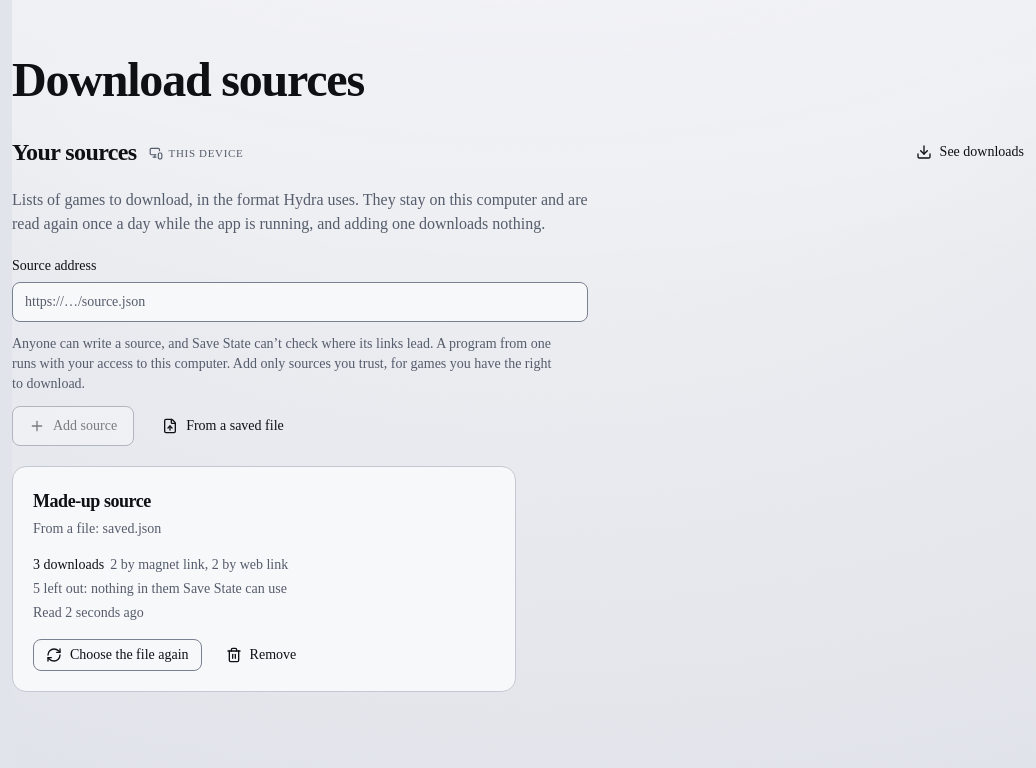
Test: download sources › reads one from a file again by choosing the file, not by an address
Click the button "Choose the file again" at (117, 655), box 33,639 -> 202,671
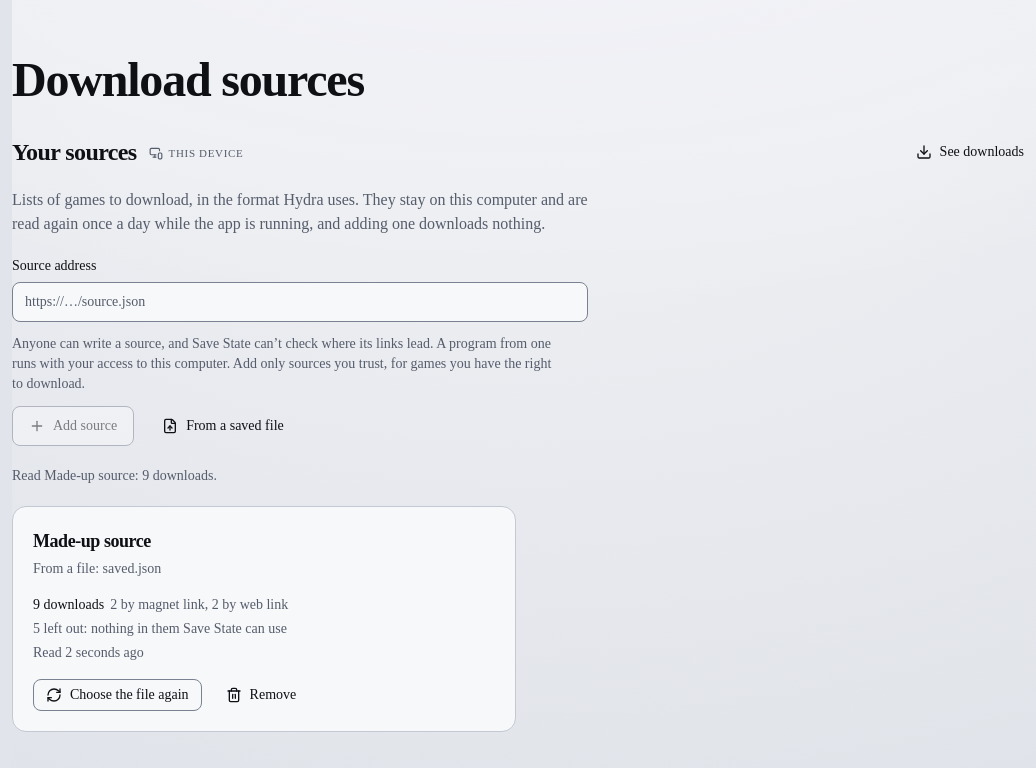
Check: the text "9 downloads" is shown, box 33,595 -> 104,615
